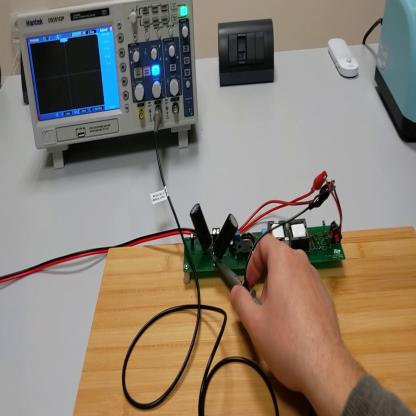hand: (233, 232, 344, 393)
high voltage board: (181, 169, 352, 278)
oscilloscope: (13, 1, 200, 169)
oscilloscope probe tip: (214, 255, 264, 307)
socket: (19, 48, 32, 106)
welder station: (375, 2, 416, 144)
working area: (73, 227, 416, 416)
